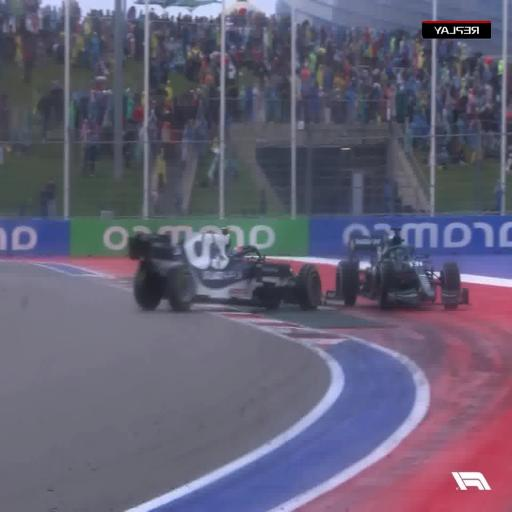f1_car: (129, 229, 323, 311), (328, 229, 469, 309)
